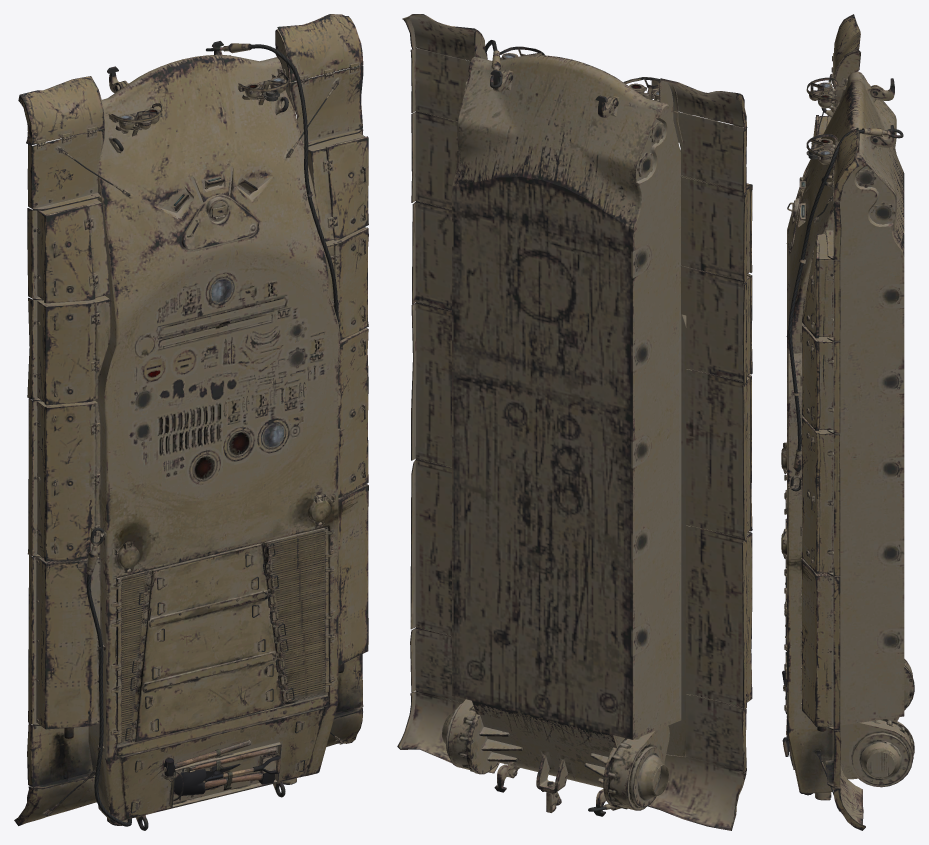
The model's file is Hull.glb.
The picture shows the model from 3 angles, left to right: view 1: azimuth 30°, elevation 25°; view 2: azimuth 150°, elevation 25°; view 3: azimuth 270°, elevation 25°; orthographic projection. The views are drawn at different scales.
Parts seen in each view (by area): view 1: set_0_group_0; view 2: set_0_group_0; view 3: set_0_group_0.
Boxes of the visible parts, x1,y1,x2,y2 form: set_0_group_0: (14, 14, 368, 830); set_0_group_0: (397, 14, 752, 830); set_0_group_0: (781, 14, 914, 830).
Bounding box in the file's own units: 3.18 × 6.78 × 1.2.
Materials: 1 (1 with a texture image).
